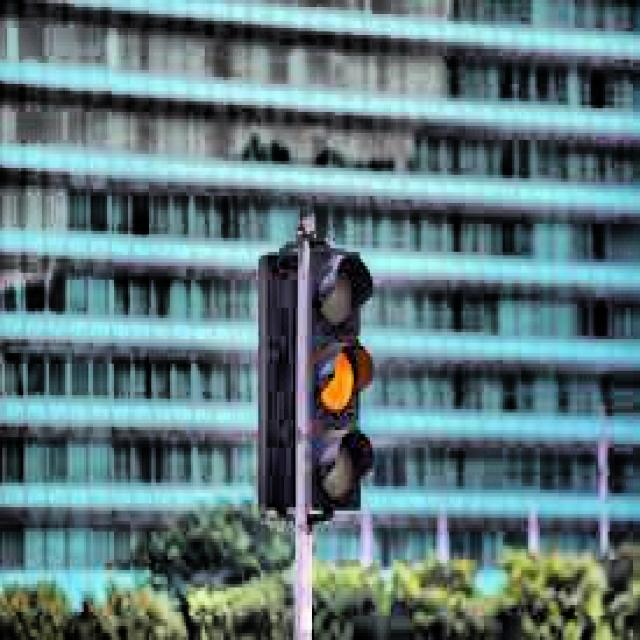yellow: (303, 246, 373, 510)
